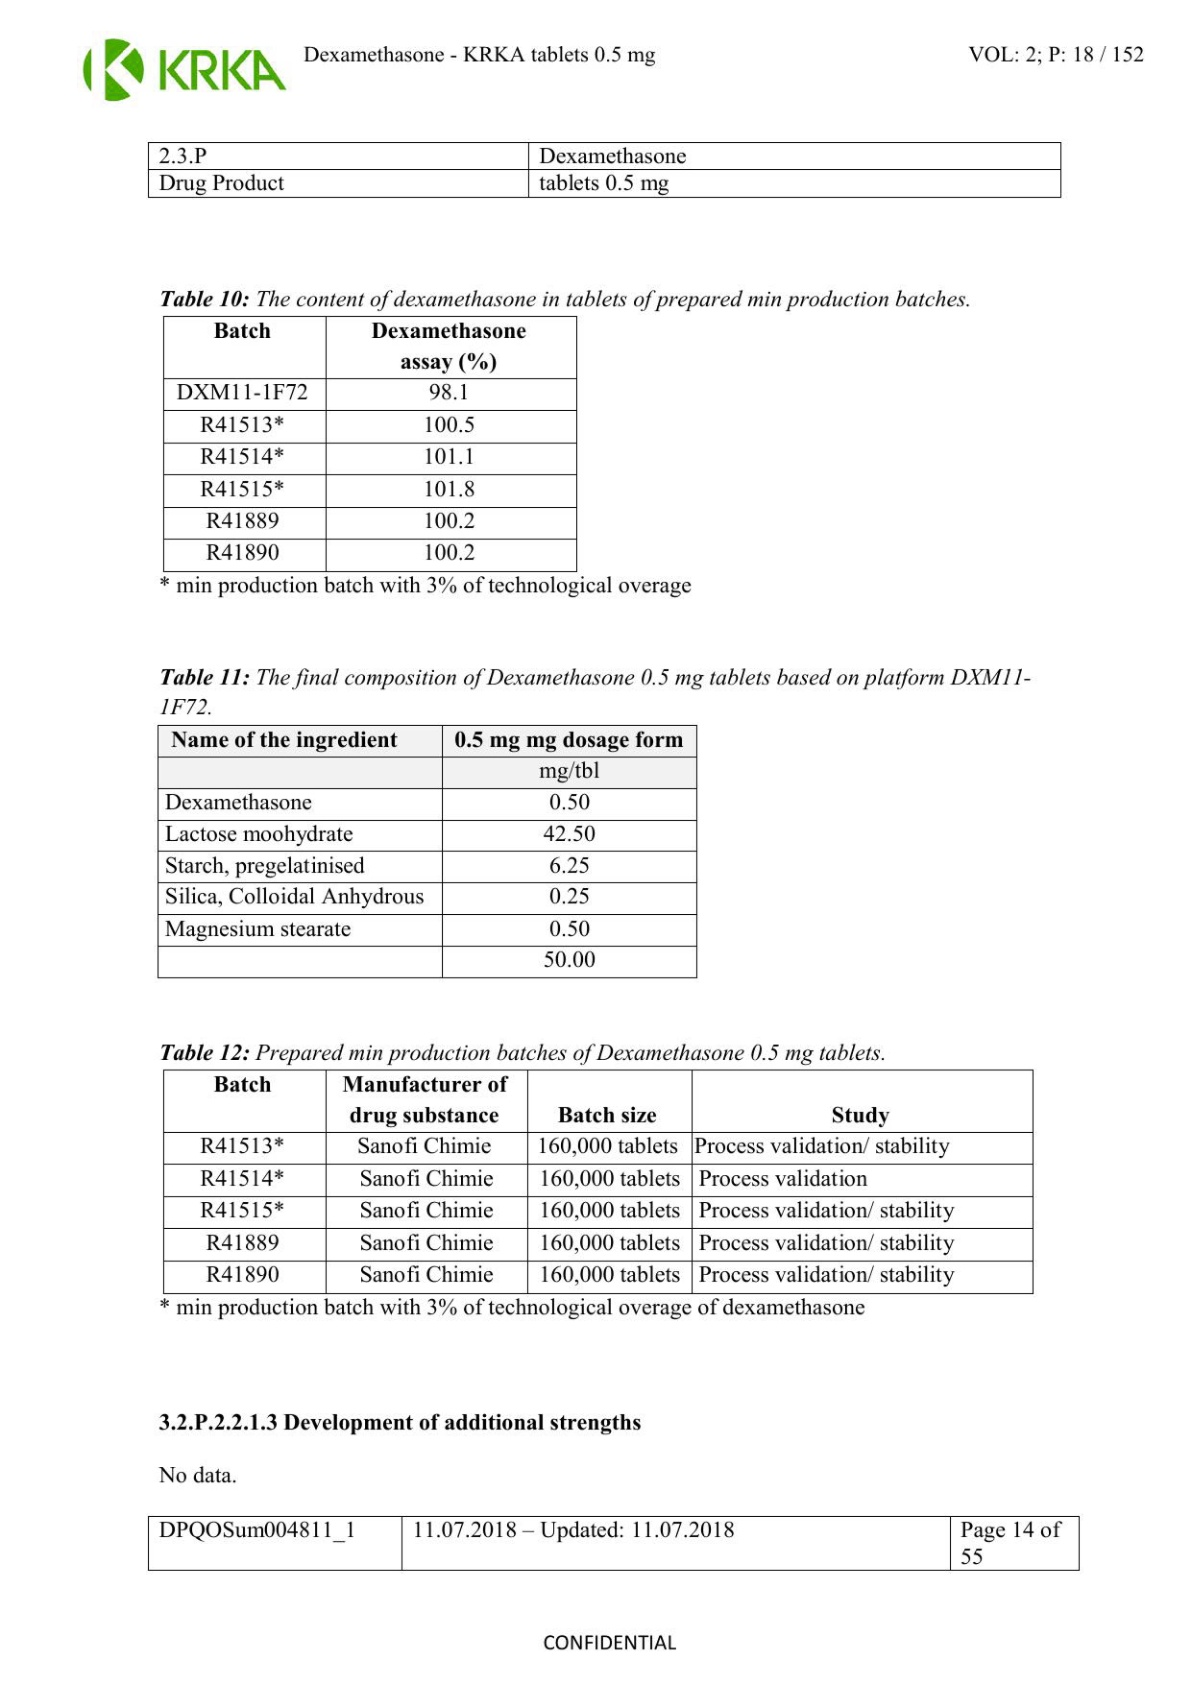full_lined: (163, 1068, 1035, 1295), (157, 723, 698, 979), (163, 315, 578, 573), (146, 141, 1062, 199), (147, 1514, 1081, 1571)
